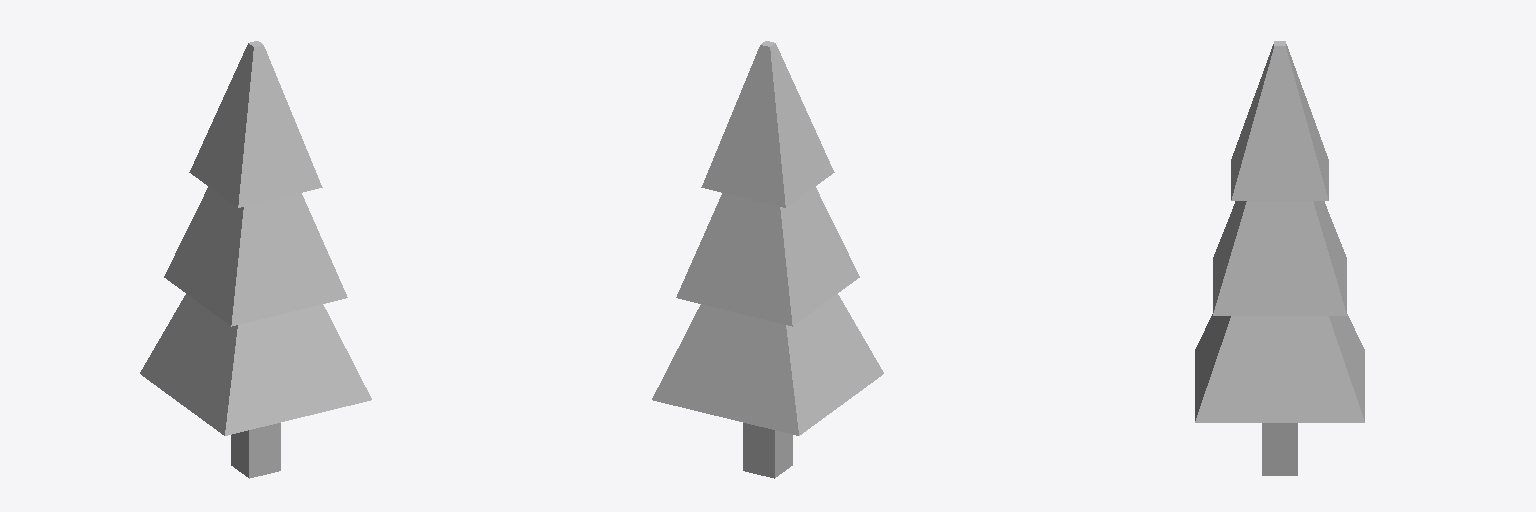
Rendered from SM_Env_Tree_01.obj.
The picture shows the model from 3 angles: view 1: azimuth 30°, elevation 25°; view 2: azimuth 150°, elevation 25°; view 3: azimuth 270°, elevation 25°; orthographic projection.
Visible parts, largest first — view 1: SM_Env_Tree_01:Mesh; view 2: SM_Env_Tree_01:Mesh; view 3: SM_Env_Tree_01:Mesh.
Boxes of the visible parts, <box> form: SM_Env_Tree_01:Mesh: <box>140,41,371,478</box>; SM_Env_Tree_01:Mesh: <box>652,41,883,478</box>; SM_Env_Tree_01:Mesh: <box>1195,41,1364,475</box>.
Size of the model in its own units: 2.91 by 8 by 2.91.